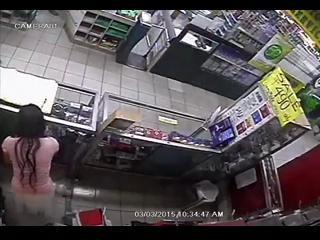Normal: (1, 104, 62, 208)
